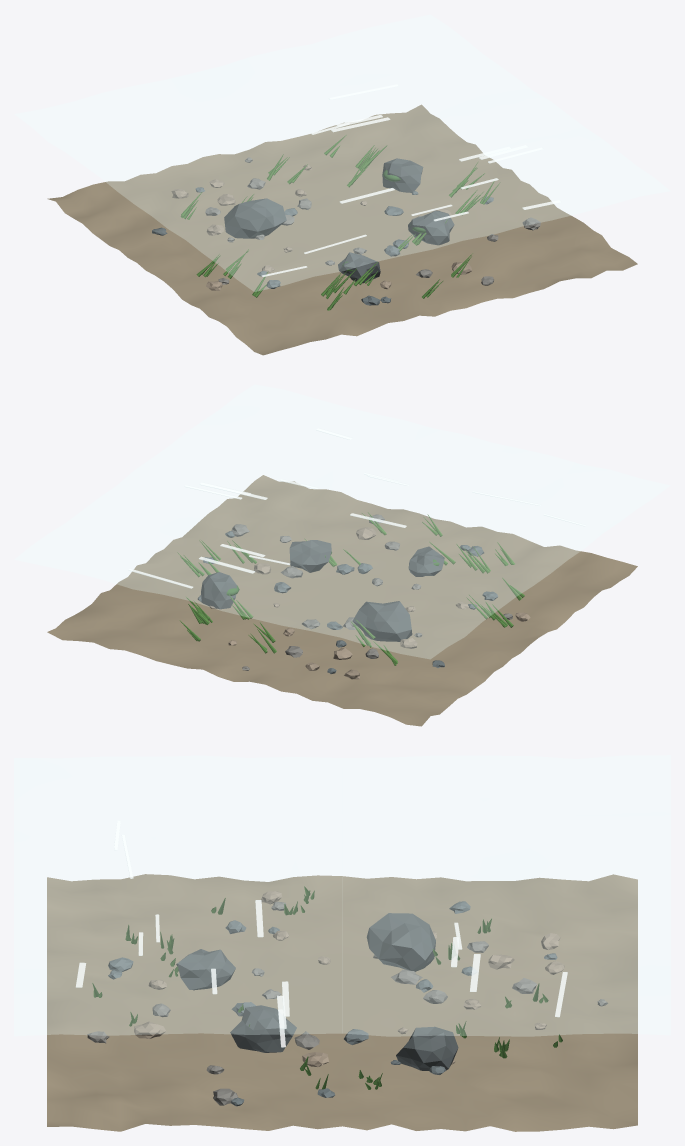
The model's file is loc_river.glb.
3 views of the same model, one above another, from view 1: azimuth 30°, elevation 25°; view 2: azimuth 150°, elevation 25°; view 3: azimuth 270°, elevation 25° (orthographic). The views are drawn at different scales.
Visible parts, largest first — view 1: Riv_Surface, Riv_Bed, Riv_Boulder0, Riv_Boulder1, Riv_Boulder3, Riv_Boulder2; view 2: Riv_Surface, Riv_Bed, Riv_Boulder0, Riv_Boulder1, Riv_Boulder3, Riv_Boulder2; view 3: Riv_Surface, Riv_Bed, Riv_Boulder0, Riv_Boulder1, Riv_Boulder3, Riv_Boulder2.
Part boxes in pixels (bbox=[...]): Riv_Surface: bbox=[15, 15, 669, 291]; Riv_Bed: bbox=[47, 104, 637, 355]; Riv_Boulder0: bbox=[224, 198, 286, 238]; Riv_Boulder1: bbox=[408, 210, 454, 245]; Riv_Boulder3: bbox=[382, 158, 423, 192]; Riv_Boulder2: bbox=[338, 252, 380, 283]; Riv_Surface: bbox=[15, 385, 669, 658]; Riv_Bed: bbox=[47, 475, 637, 726]; Riv_Boulder0: bbox=[352, 601, 412, 641]; Riv_Boulder1: bbox=[289, 540, 331, 572]; Riv_Boulder3: bbox=[201, 572, 236, 609]; Riv_Boulder2: bbox=[408, 546, 444, 576]; Riv_Surface: bbox=[14, 755, 670, 1036]; Riv_Bed: bbox=[47, 874, 637, 1131]; Riv_Boulder0: bbox=[366, 913, 435, 971]; Riv_Boulder1: bbox=[230, 1005, 296, 1052]; Riv_Boulder3: bbox=[396, 1026, 458, 1070]; Riv_Boulder2: bbox=[176, 949, 235, 990].
Size of the model in its own units: 20 by 4.01 by 20.
